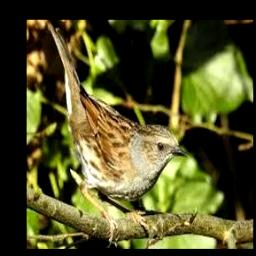Sparrow: (49, 25, 188, 245)
